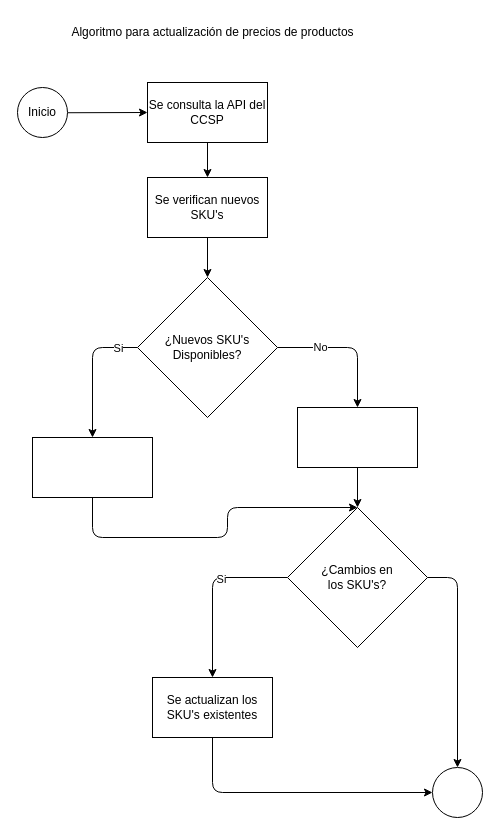
The diagram is 500 pixels wide and 835 high, and some of its shapes have lost their labels. The box of each missing label's shape, as (x1, y1, x2, y2) in pixels:
Fin: (432, 766, 482, 818)
Se registra el nuevo SKU en Service: (32, 436, 152, 498)
Se verifican cambios en los SKU's existentes: (296, 406, 418, 468)
